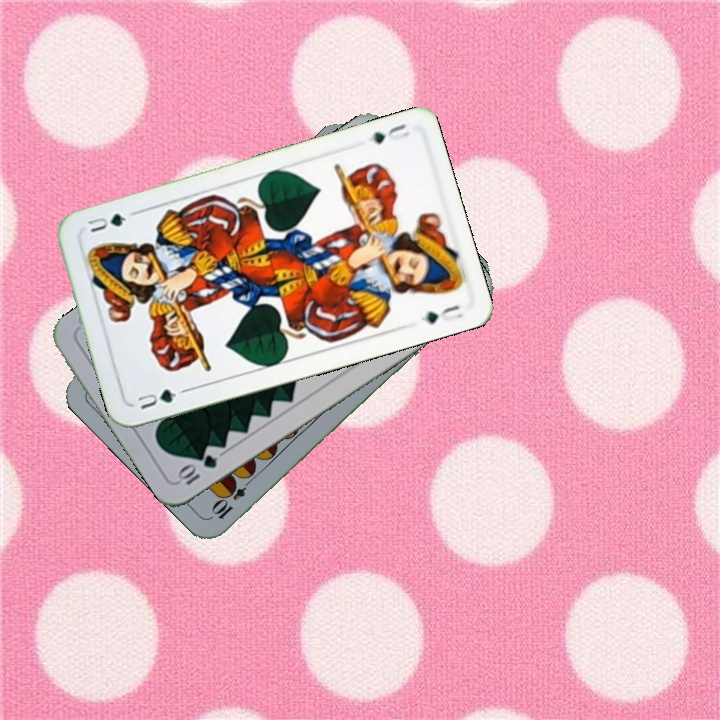E10: (208, 472, 256, 522)
G10: (174, 450, 220, 488)
GU: (133, 384, 179, 412), (367, 119, 412, 147)
